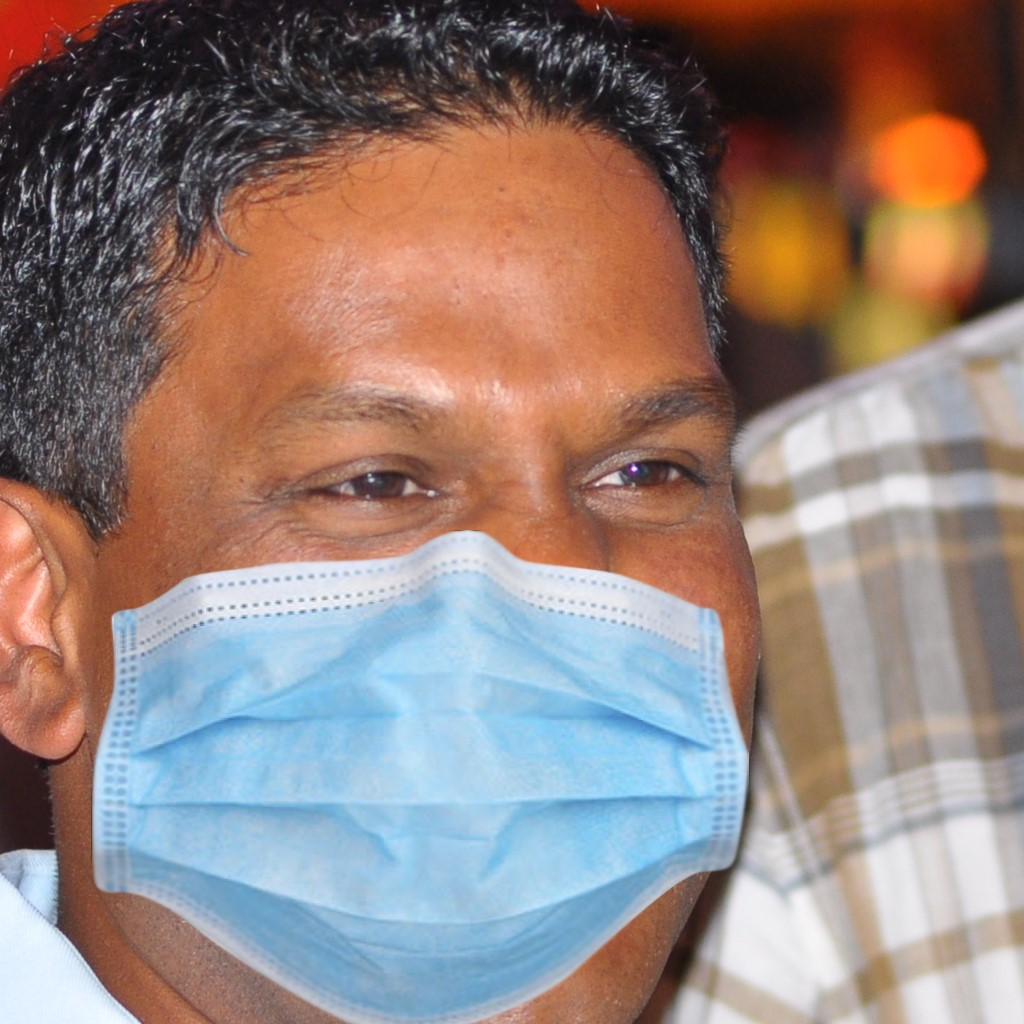con_mascara: (74, 100, 750, 984)
